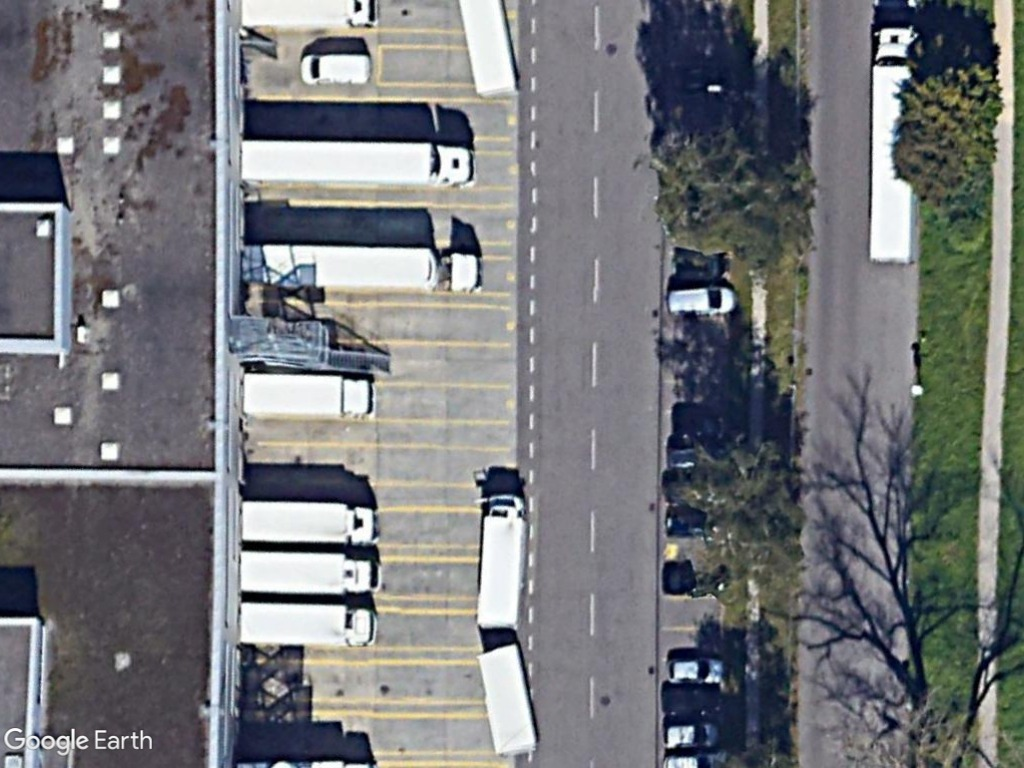car: (661, 658, 727, 689)
longvehicle: (240, 134, 480, 191), (259, 240, 485, 296)
truck: (473, 492, 528, 634), (241, 368, 380, 424), (236, 498, 384, 550), (234, 550, 379, 600), (235, 599, 381, 648)
van: (299, 53, 373, 86), (666, 285, 738, 318)
